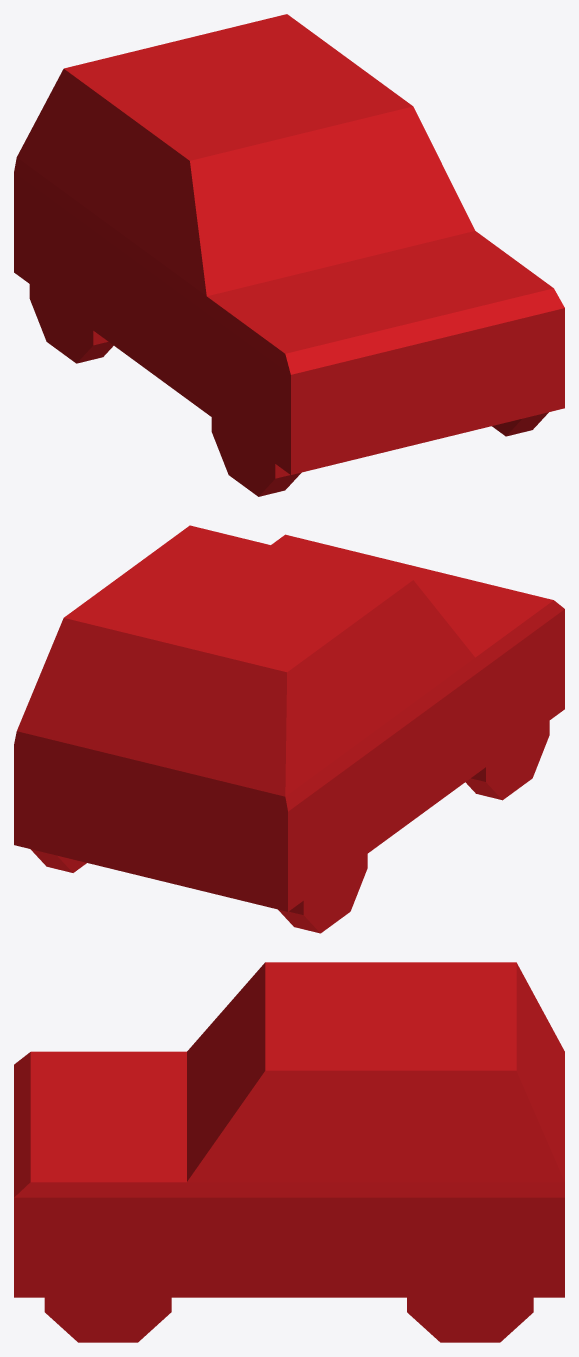
File: auto1.fbx
3 views of the same model, one above another, from view 1: azimuth 30°, elevation 25°; view 2: azimuth 150°, elevation 25°; view 3: azimuth 270°, elevation 25° (orthographic).
Parts seen in each view (by area): view 1: Plane; view 2: Plane; view 3: Plane.
Boxes of the visible parts, x1,y1,x2,y2 form: Plane: (14, 14, 564, 496); Plane: (14, 525, 564, 933); Plane: (14, 962, 564, 1342).
Bounding box in the file's own units: 239 × 218 × 419.
